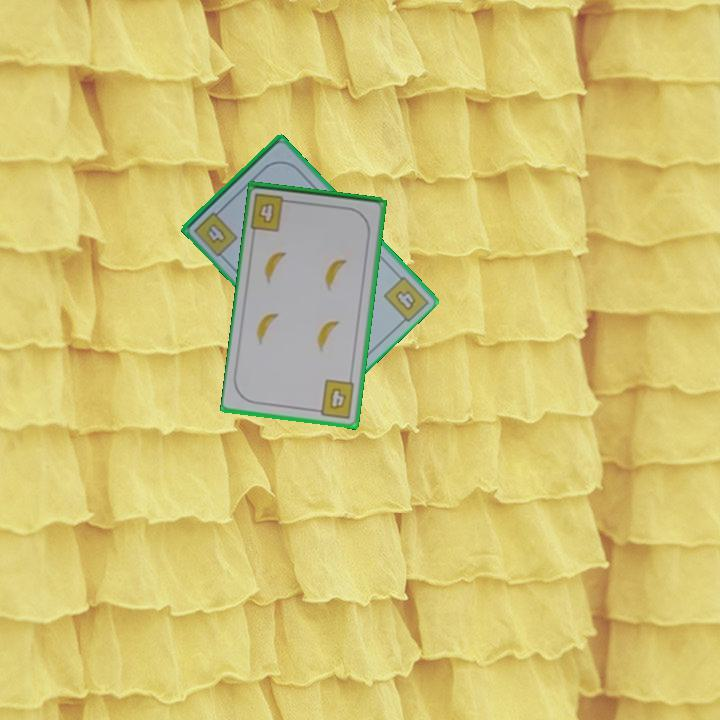4b: (190, 204, 241, 259), (248, 189, 296, 234), (311, 376, 357, 421), (392, 287, 419, 314)
